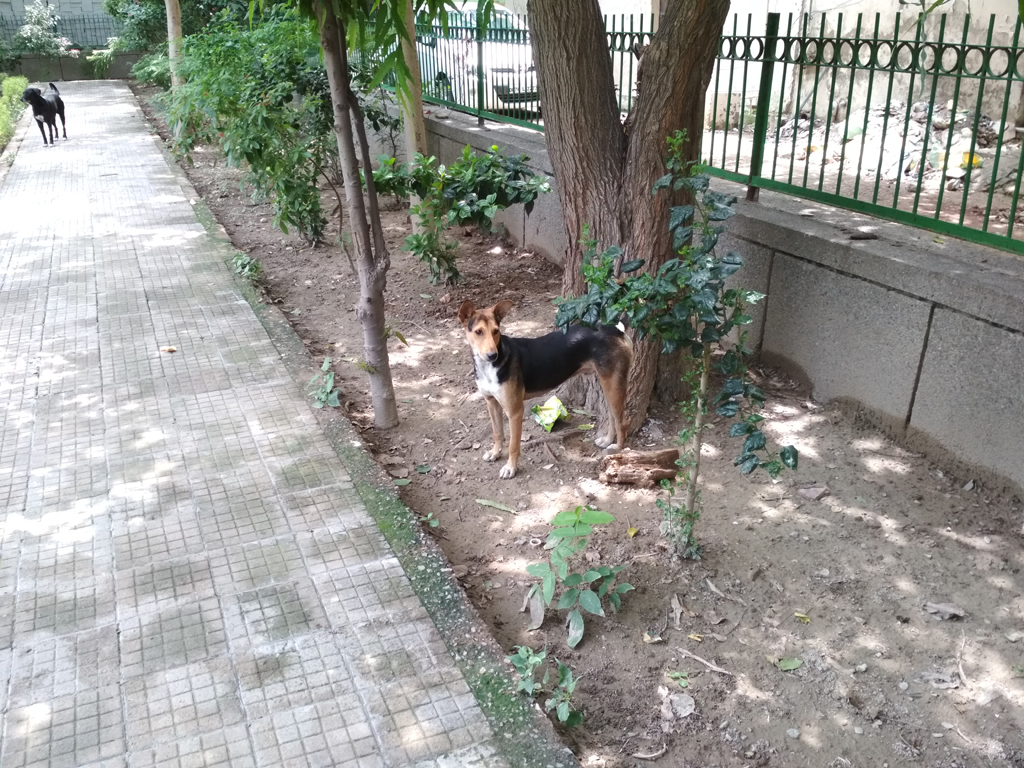dog: (457, 297, 634, 478), (20, 82, 71, 147)
